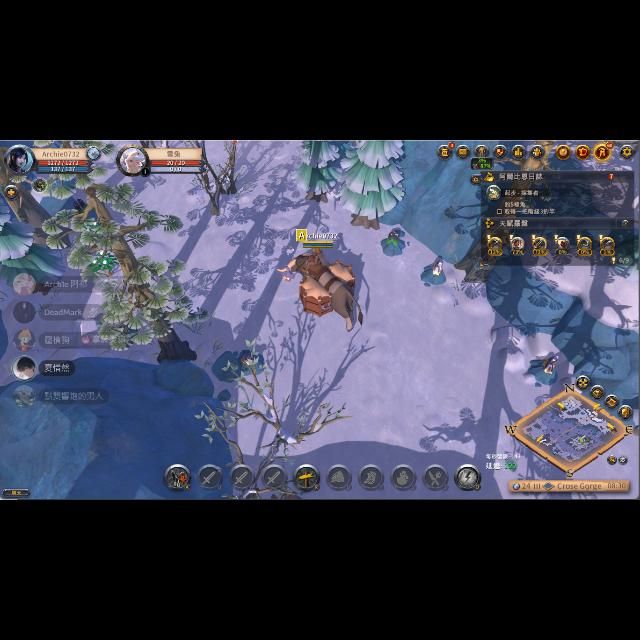mine_ii: (533, 357, 559, 383), (234, 351, 262, 373), (424, 260, 446, 284)
mine_iii: (380, 230, 406, 256)
